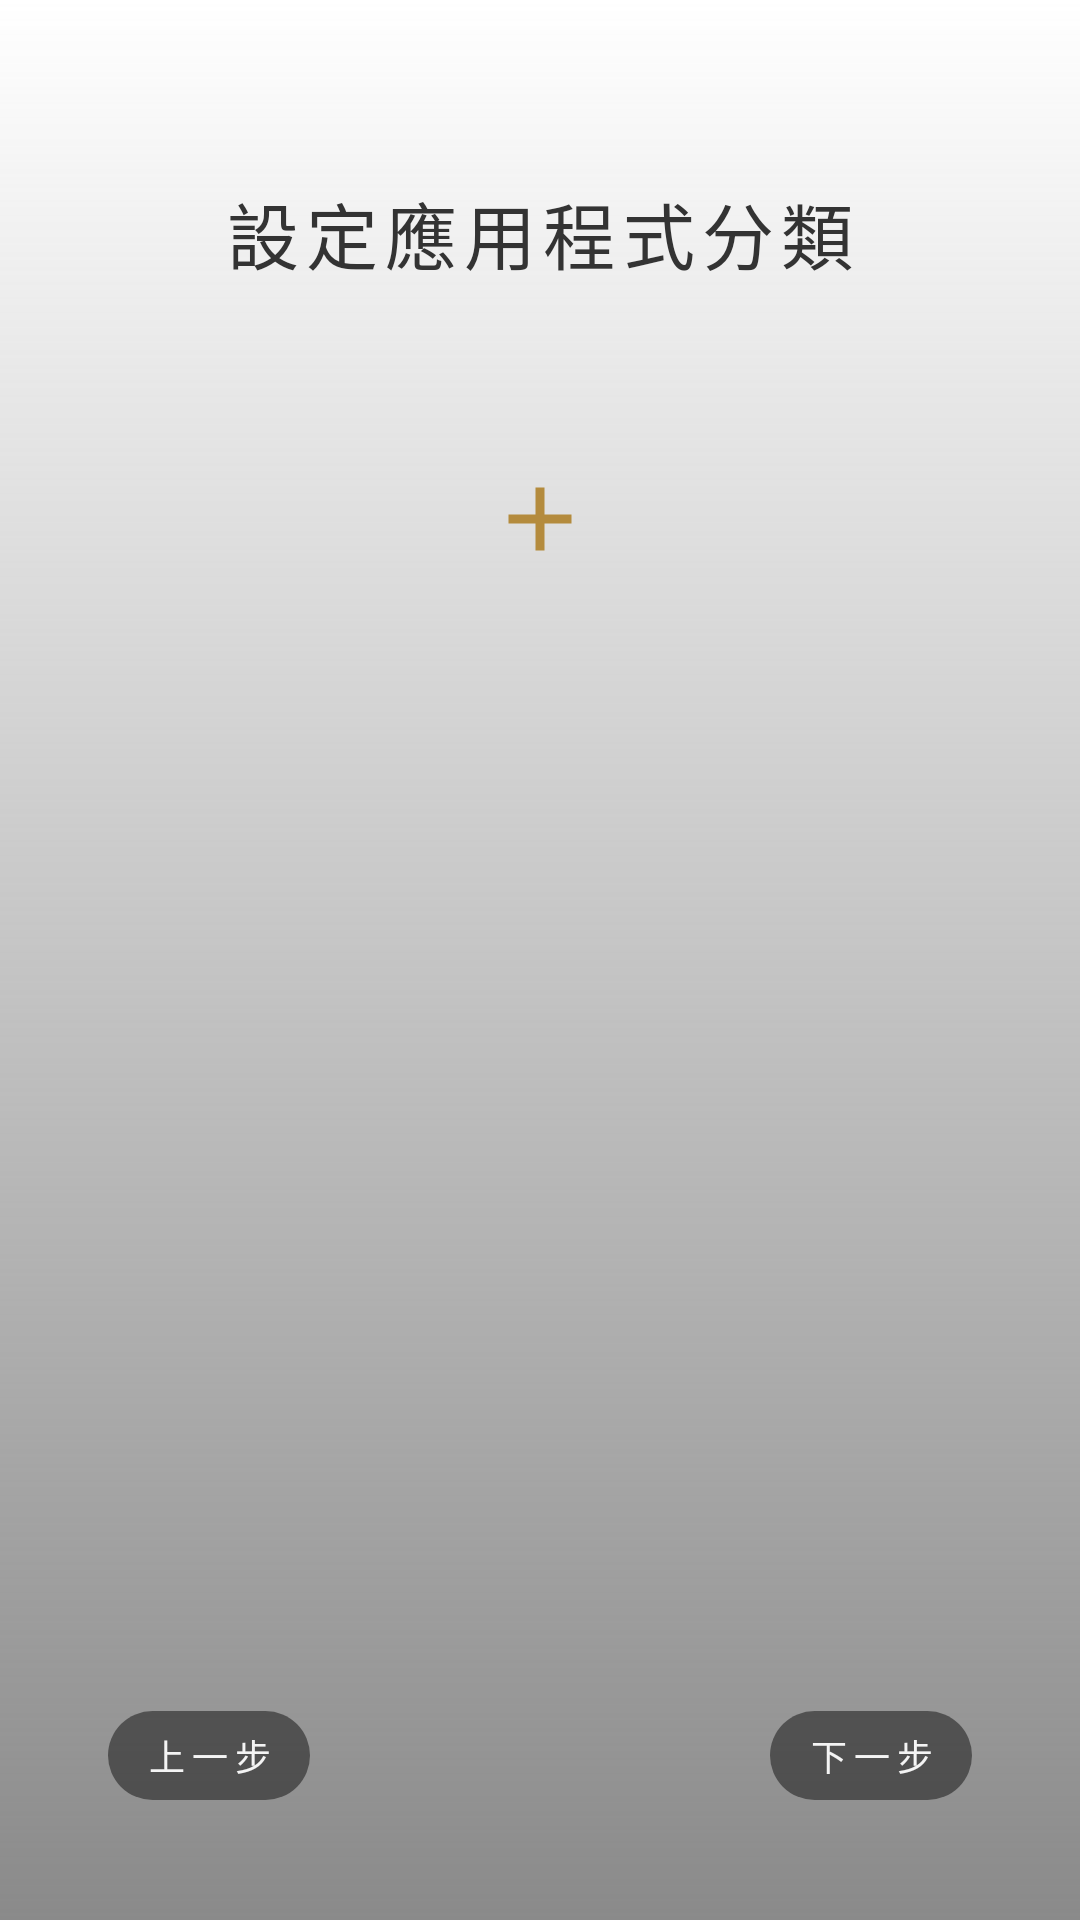

Where to tap for icons on this 1080*1920 app screen, as point (x, y):
add: point (540, 519)
